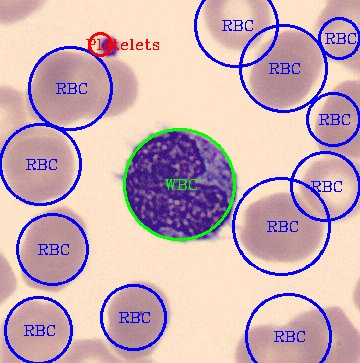Platelets: (93, 30, 127, 59)
RBC: (239, 190, 327, 265), (19, 203, 91, 293), (0, 128, 76, 207), (104, 278, 172, 362), (24, 48, 97, 126), (0, 296, 74, 361), (282, 305, 359, 362), (246, 51, 315, 112), (298, 155, 358, 224), (79, 57, 141, 120), (312, 77, 358, 158), (201, 0, 271, 53), (315, 0, 358, 72), (262, 28, 322, 78), (271, 318, 332, 361), (232, 322, 293, 362)
WBC: (120, 123, 239, 244)
